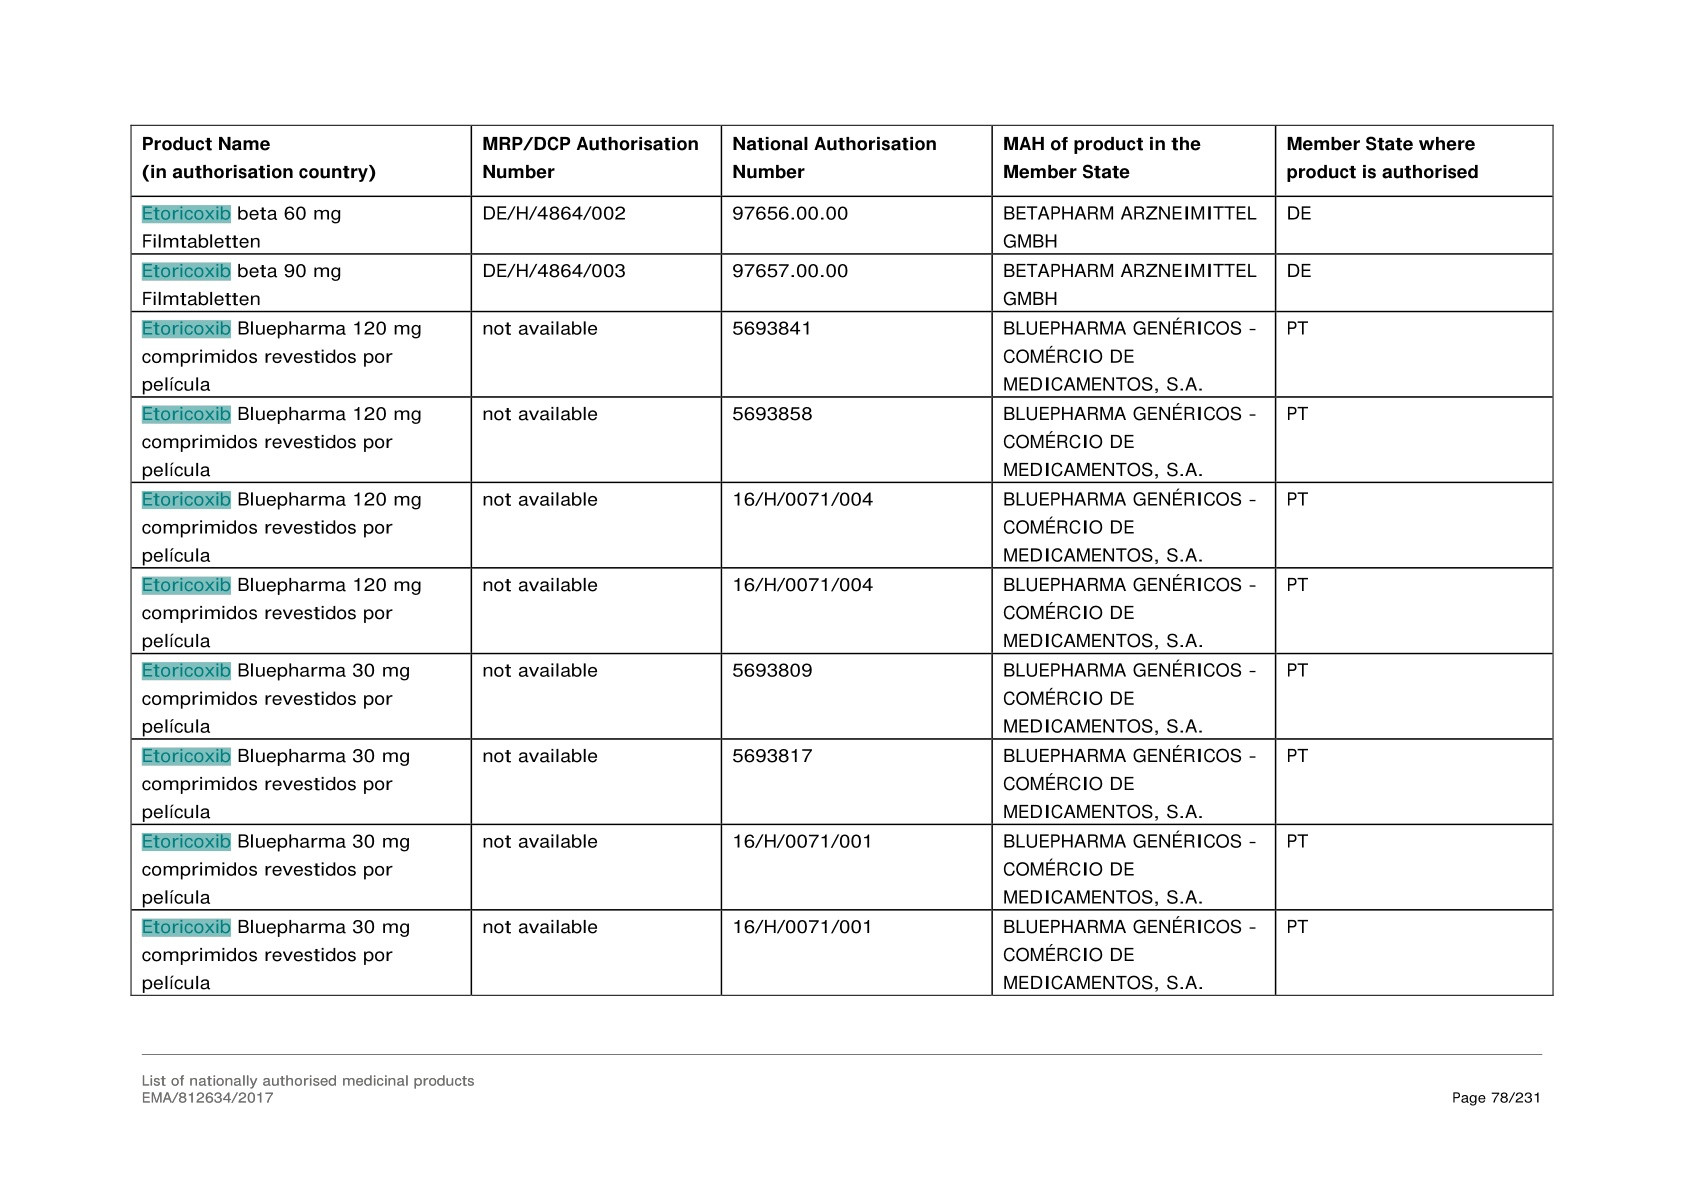full_lined: (125, 124, 1565, 1005)
